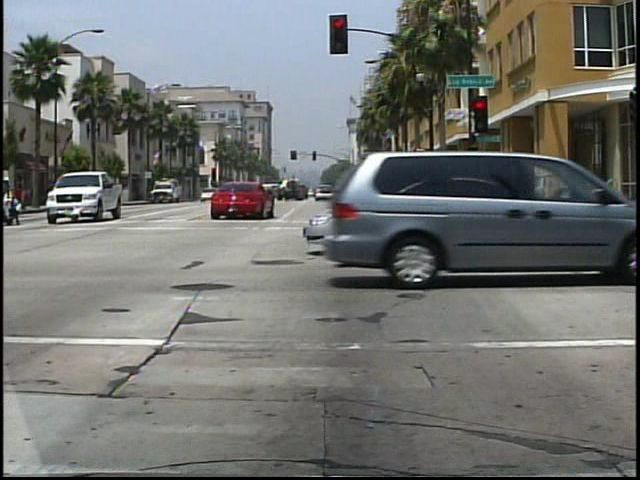person: (3, 171, 28, 228)
